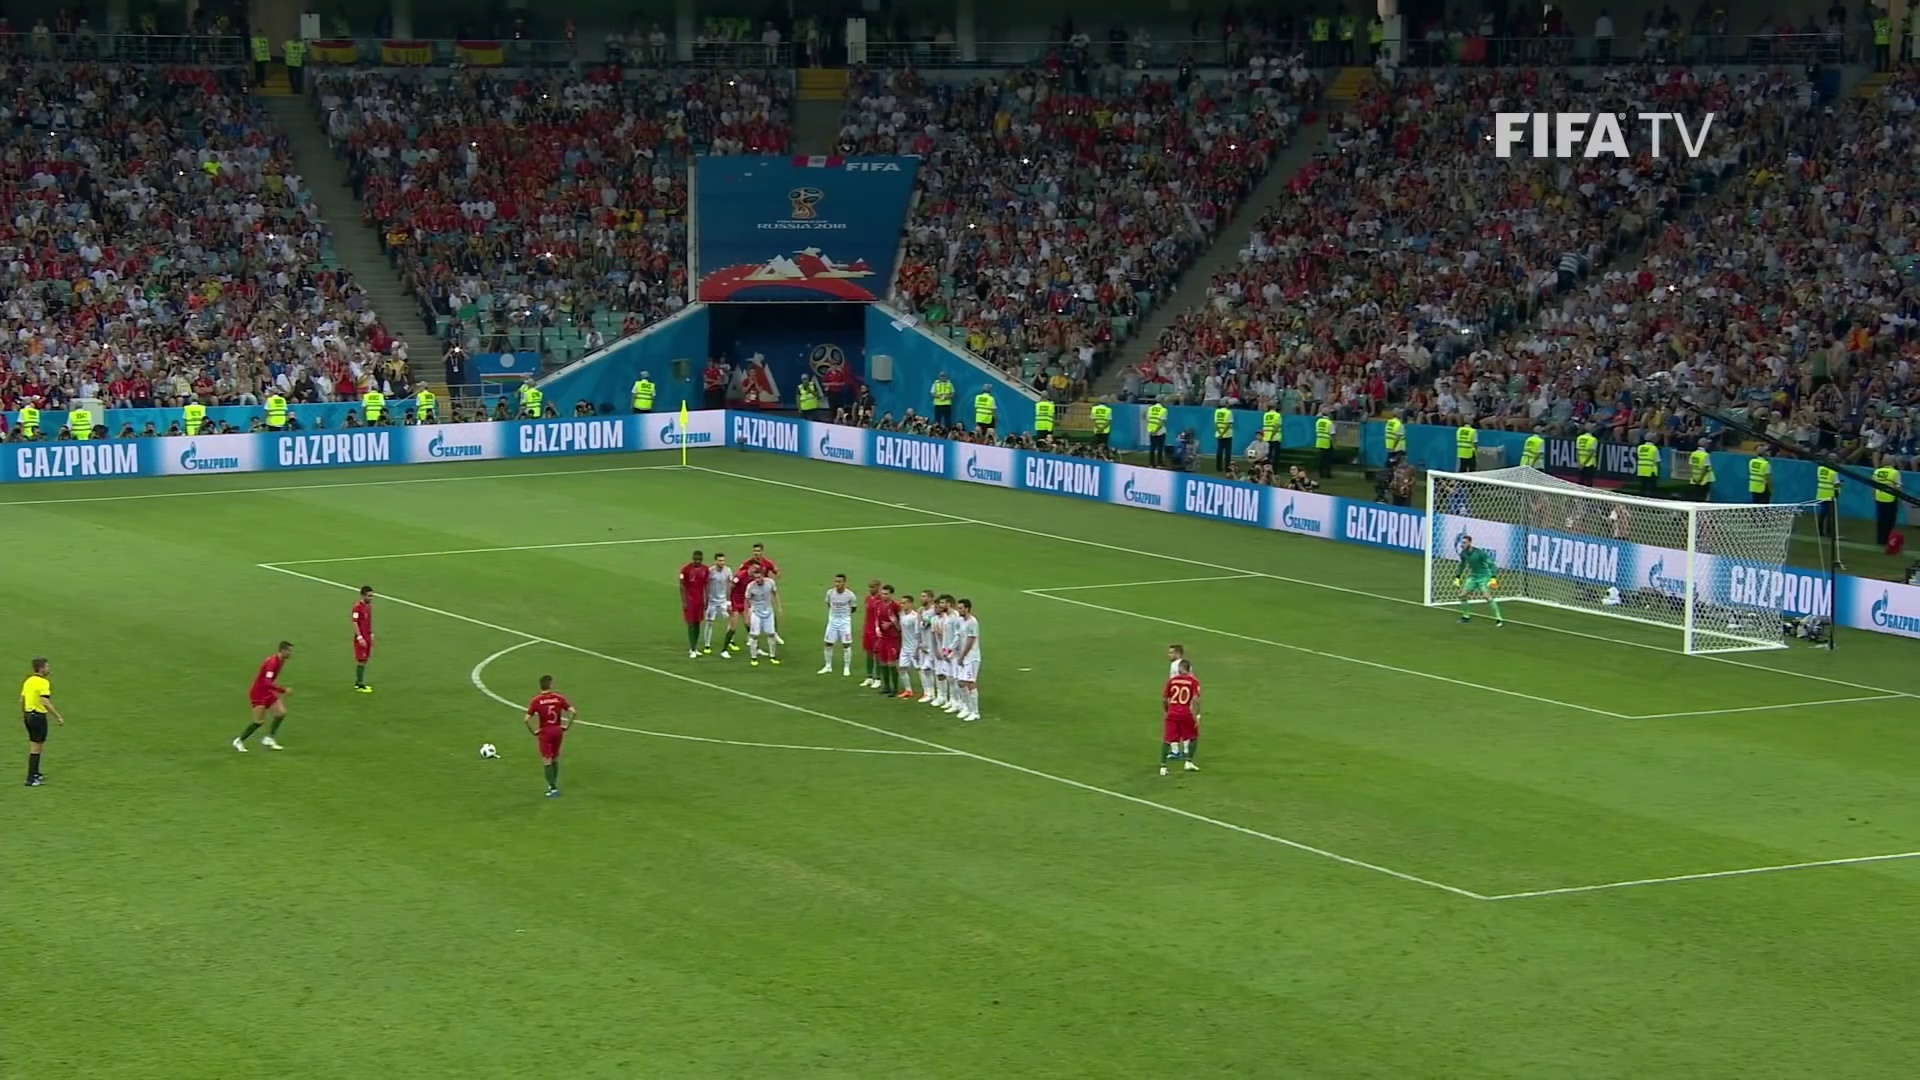ball: (480, 743, 496, 759)
person: (229, 640, 293, 753), (524, 675, 574, 794), (1165, 662, 1201, 776), (744, 571, 783, 664), (821, 573, 856, 680), (955, 600, 983, 721), (705, 551, 732, 655), (352, 586, 375, 693), (680, 550, 701, 660), (879, 585, 899, 697), (733, 537, 782, 580), (899, 597, 918, 700), (862, 578, 879, 687), (918, 589, 934, 702), (941, 592, 954, 713), (1165, 645, 1195, 677)
